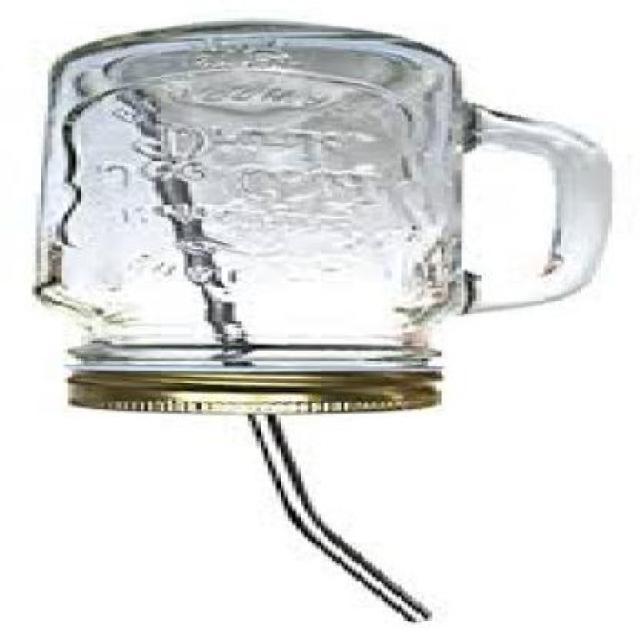GLASS: (32, 22, 608, 373)
METAL: (60, 368, 428, 414)
